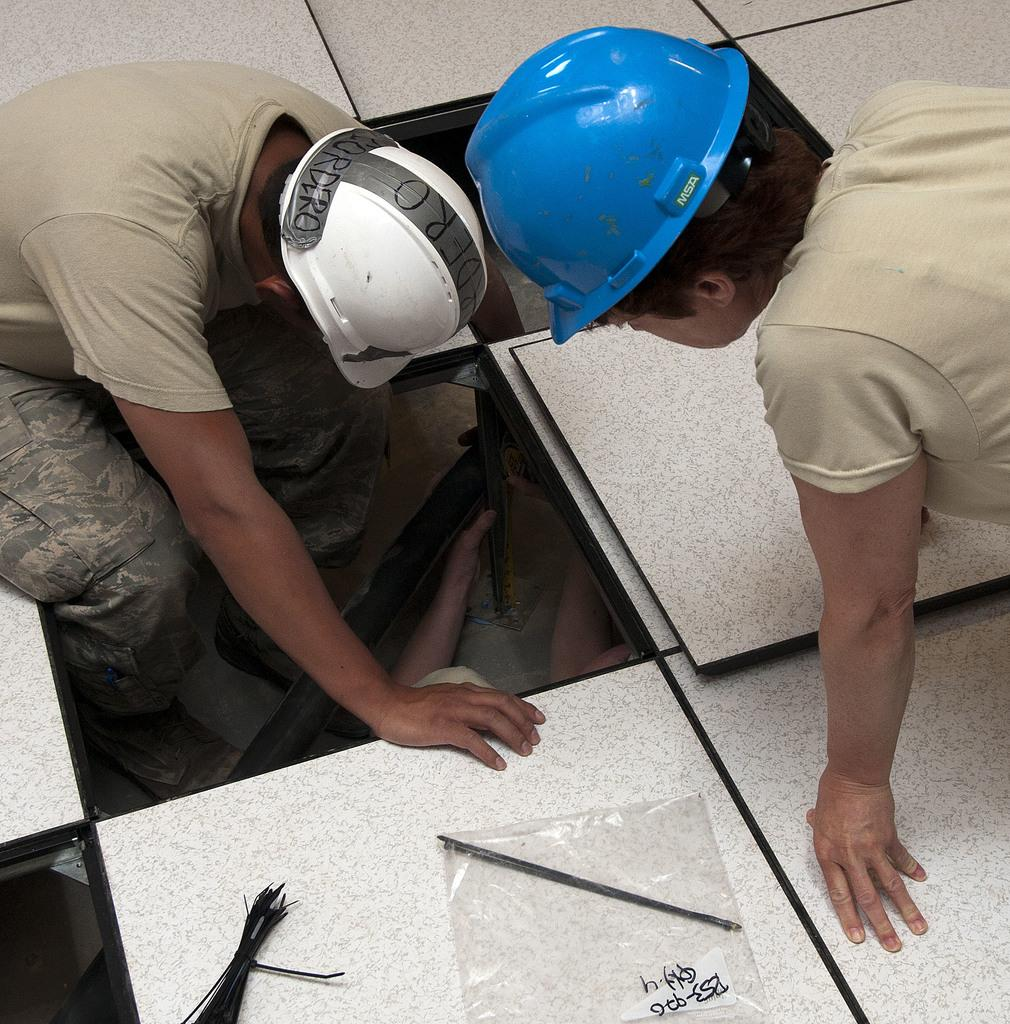helmet: (464, 25, 800, 345), (241, 127, 488, 389)
